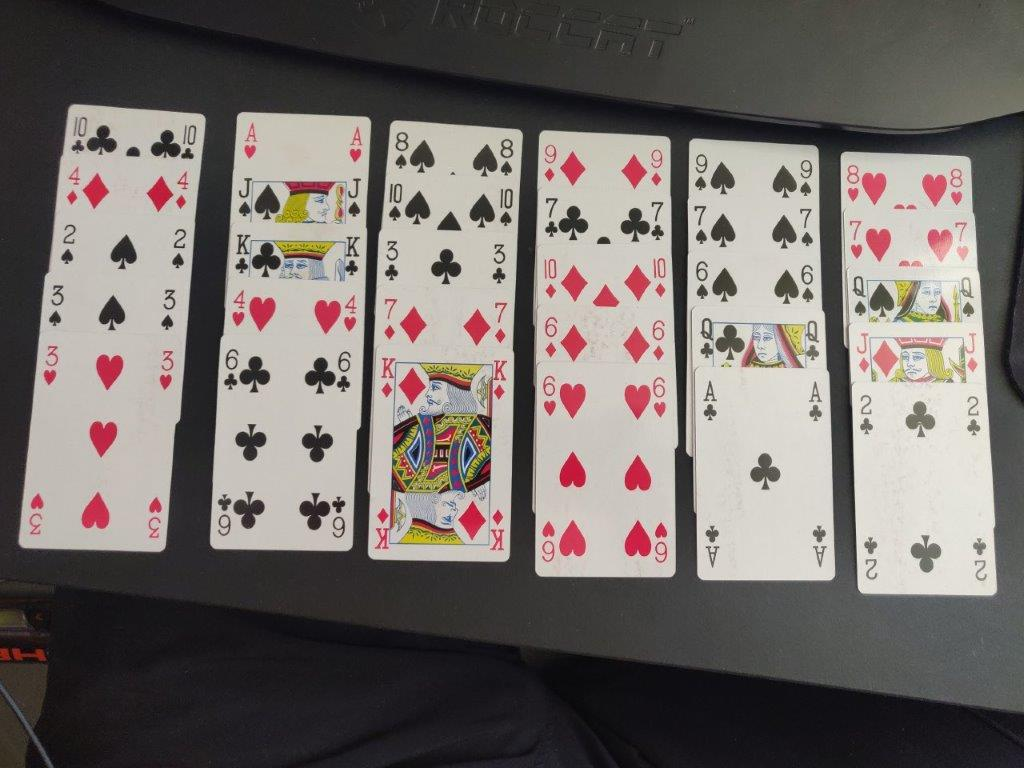10C: (64, 114, 89, 155), (182, 122, 197, 162)
10D: (540, 254, 560, 302), (651, 254, 670, 302)
10S: (386, 180, 404, 225), (497, 185, 515, 229)
2C: (964, 392, 984, 441), (855, 393, 877, 437)
2S: (57, 220, 79, 266), (168, 226, 187, 270)
3C: (382, 237, 403, 284), (490, 241, 508, 288)
3H: (39, 344, 62, 389), (156, 345, 177, 392)
3S: (47, 283, 67, 329), (159, 287, 178, 331)
4D: (63, 162, 82, 206), (174, 170, 191, 213)
4H: (229, 287, 247, 329), (343, 293, 359, 337)
6C: (335, 348, 353, 399), (222, 346, 241, 392)
6D: (649, 318, 668, 365), (541, 313, 559, 361)
6H: (538, 373, 560, 417), (650, 374, 671, 420)
6S: (693, 257, 712, 304), (800, 261, 817, 305)
7C: (647, 196, 669, 242), (541, 194, 561, 241)
7D: (380, 294, 399, 344), (492, 300, 510, 345)
7H: (846, 216, 867, 260), (953, 218, 973, 264)
7S: (796, 206, 817, 249), (691, 203, 711, 247)
8H: (843, 162, 862, 209), (946, 165, 966, 208)
8S: (497, 135, 516, 181), (390, 130, 410, 173)
9D: (647, 146, 666, 188), (541, 143, 559, 184)
9S: (797, 157, 816, 199), (691, 151, 710, 191)
AC: (698, 378, 722, 425), (807, 376, 824, 428)
AH: (240, 119, 262, 162), (346, 123, 365, 165)
JD: (961, 330, 982, 373), (854, 331, 873, 374)
JS: (345, 175, 364, 220), (235, 175, 253, 219)
KC: (233, 231, 251, 275), (345, 235, 363, 278)
KD: (378, 355, 396, 402), (491, 356, 509, 403)
QC: (696, 315, 717, 362), (802, 316, 822, 363)
QS: (957, 273, 979, 321), (849, 273, 869, 319)
